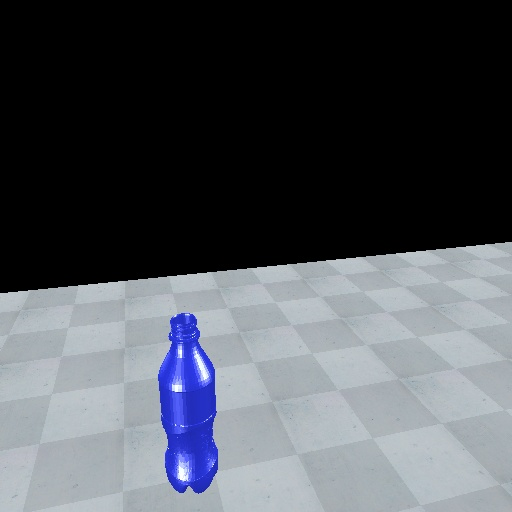bottle: (155, 311, 221, 496)
